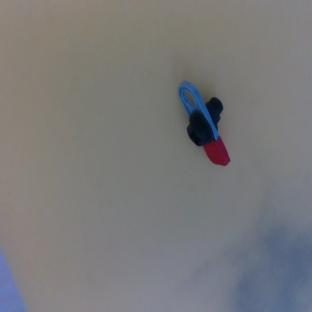part_1_good: (175, 73, 237, 173)
